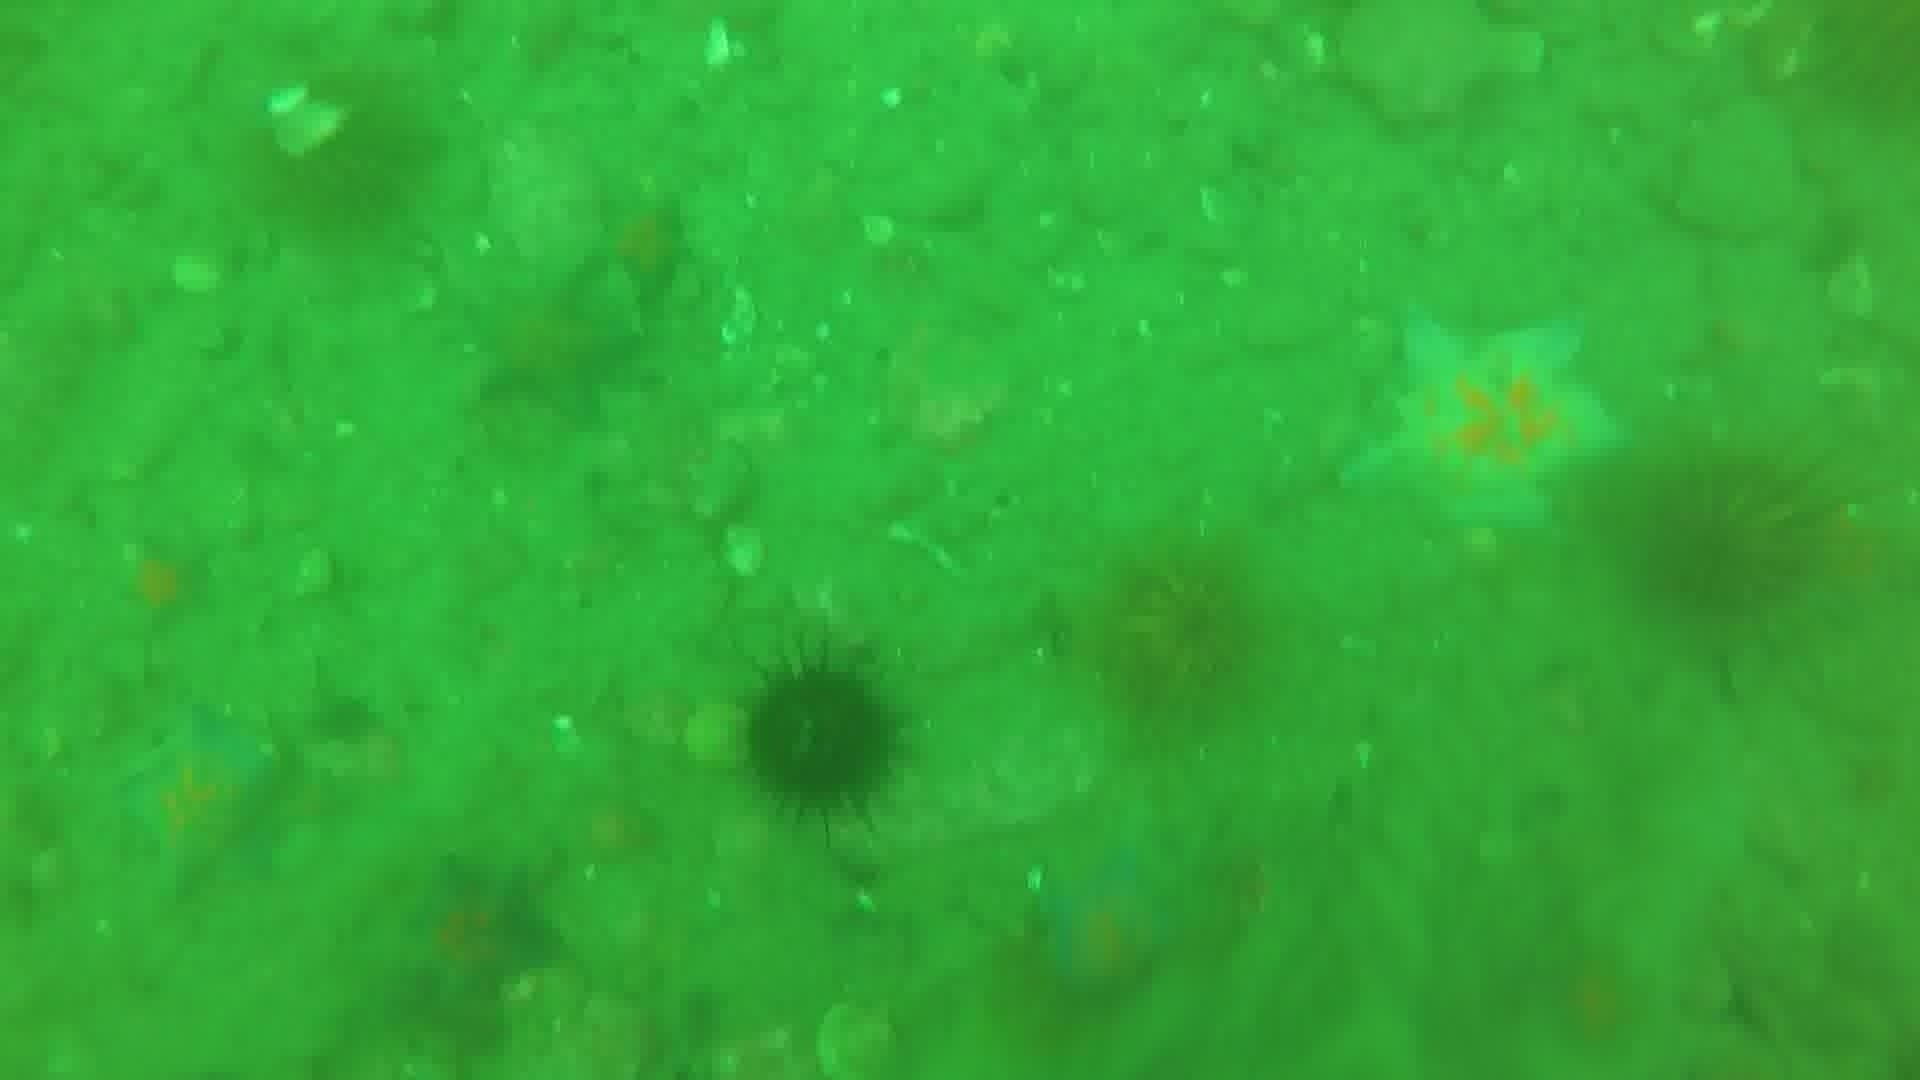echinus: (1618, 442, 1840, 636), (207, 61, 439, 243), (1083, 535, 1269, 731), (735, 653, 909, 824)
scallop: (811, 1000, 903, 1080)
starfish: (1338, 309, 1625, 545), (117, 712, 294, 902), (459, 266, 640, 425), (1027, 843, 1193, 1007), (398, 855, 563, 1009), (1520, 938, 1664, 1072), (585, 186, 698, 309), (105, 533, 219, 638)
